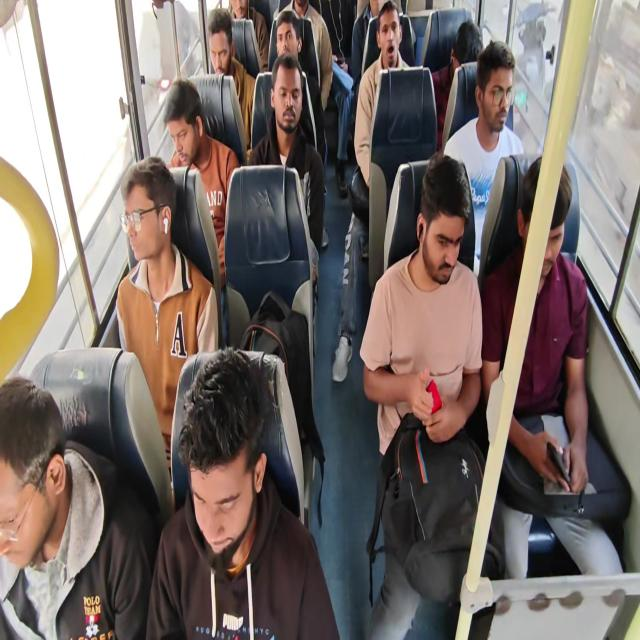person: (2, 1, 630, 638), (359, 150, 489, 638), (481, 155, 628, 579), (145, 345, 340, 639), (0, 375, 156, 638), (116, 156, 220, 480), (332, 0, 413, 382), (162, 78, 240, 345), (248, 52, 326, 313), (443, 40, 524, 274), (353, 0, 412, 188), (271, 9, 327, 169), (206, 8, 256, 150), (430, 18, 483, 150), (151, 0, 200, 78), (351, 0, 382, 103), (228, 0, 269, 72)
